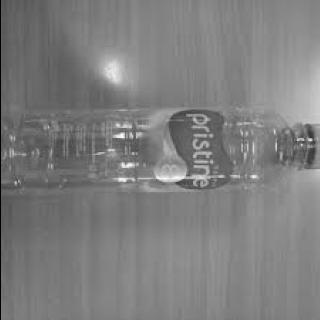plastic_bottles: (0, 105, 319, 194)
